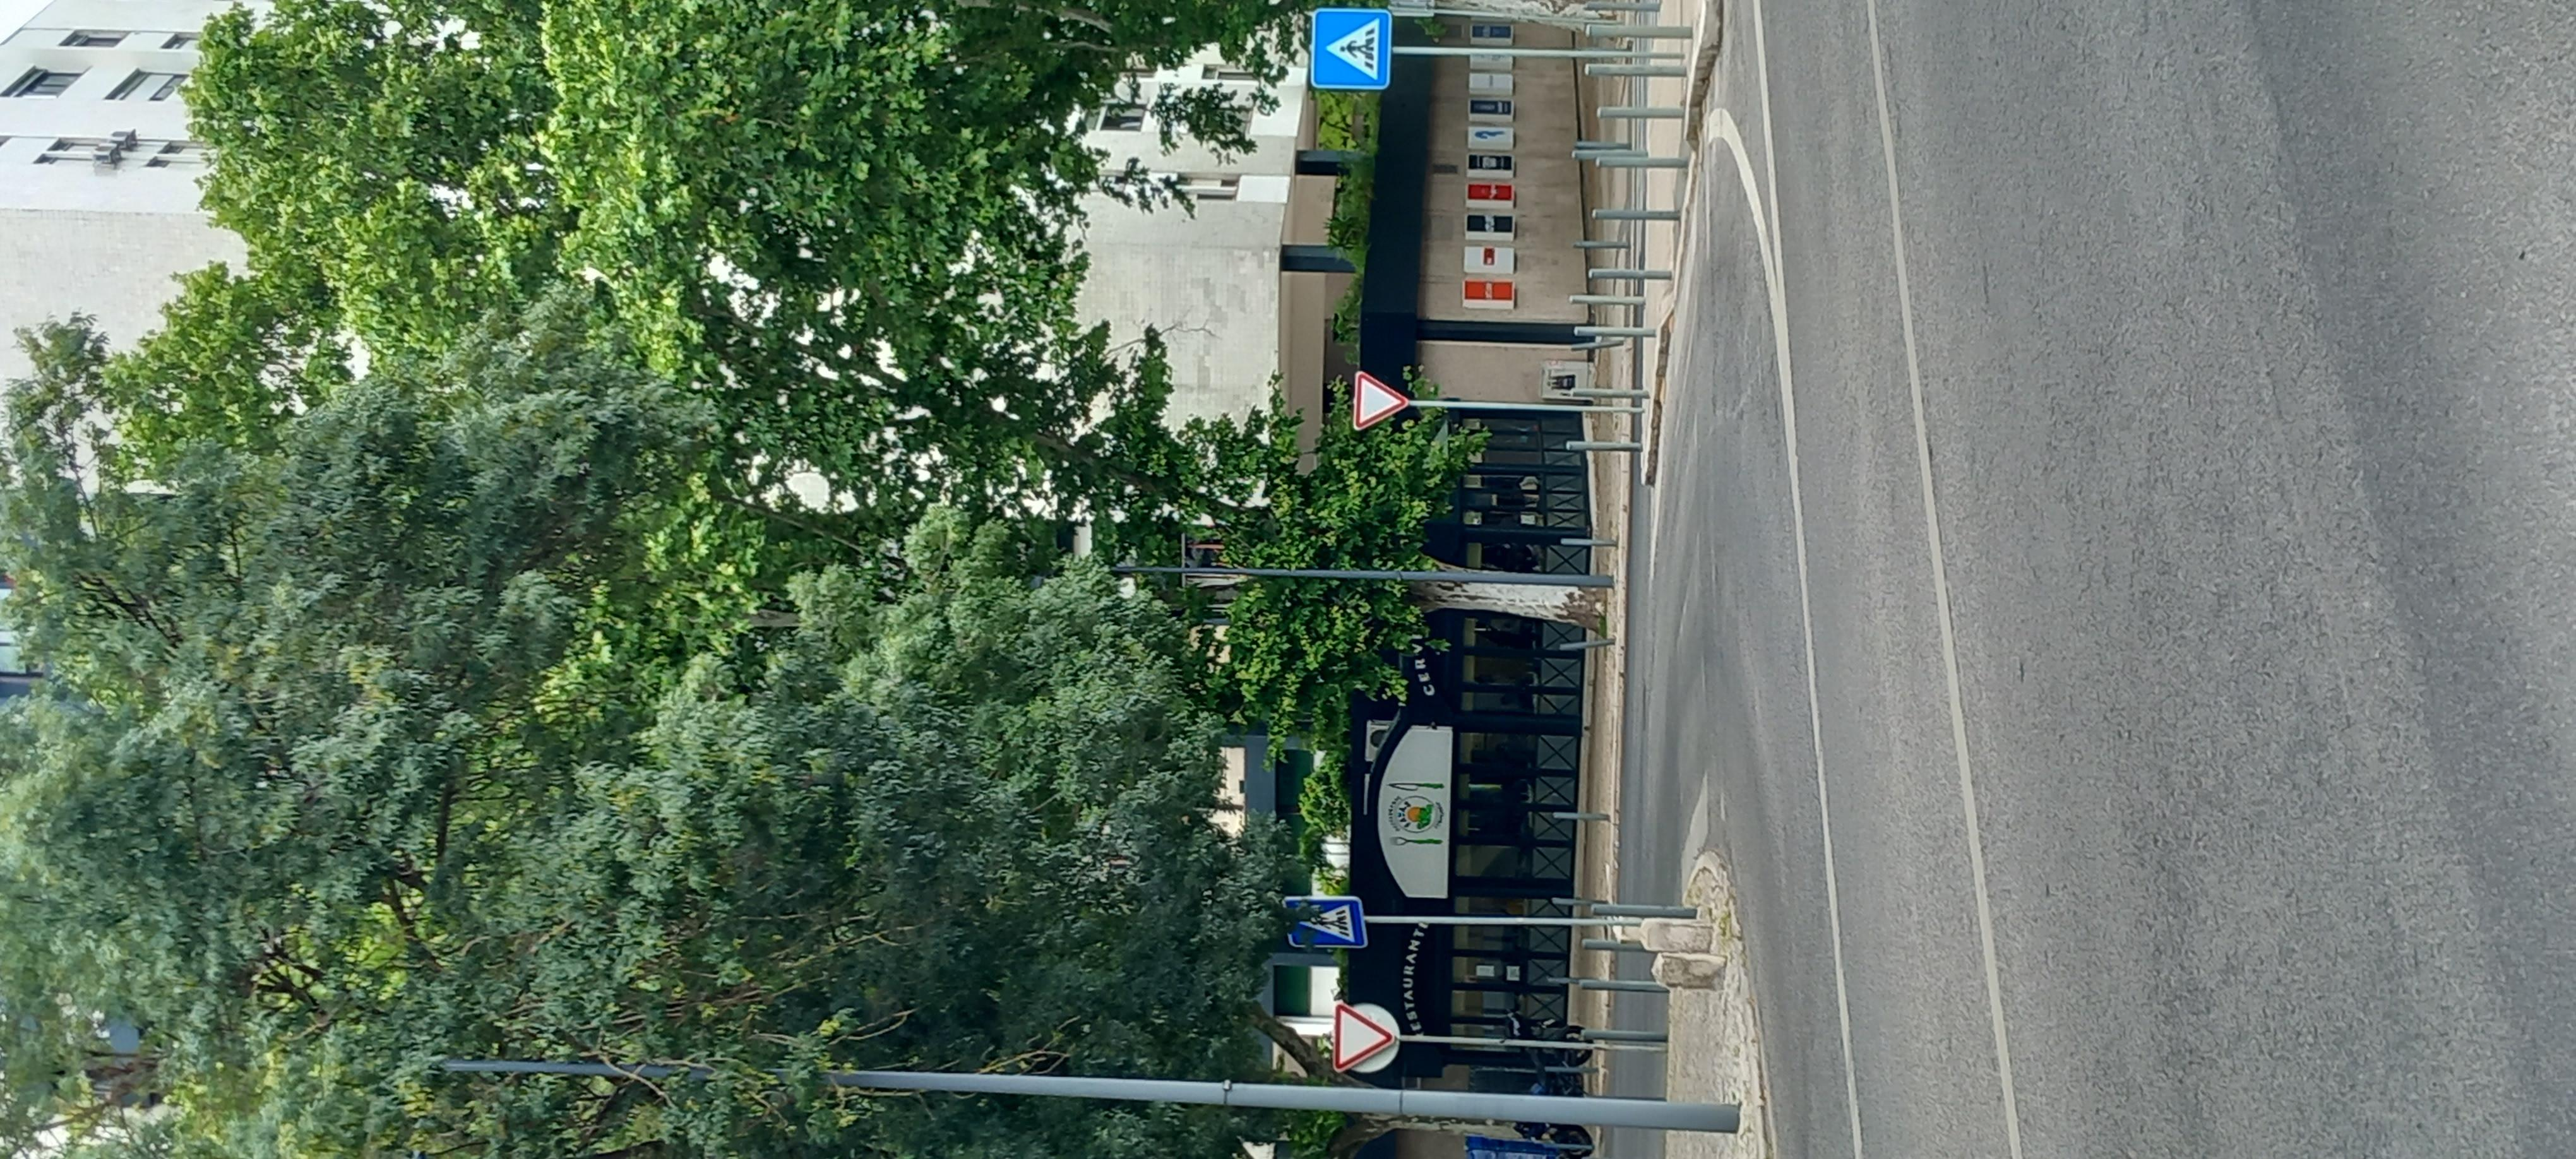cedencia de passagem: (1594, 604, 1786, 639)
